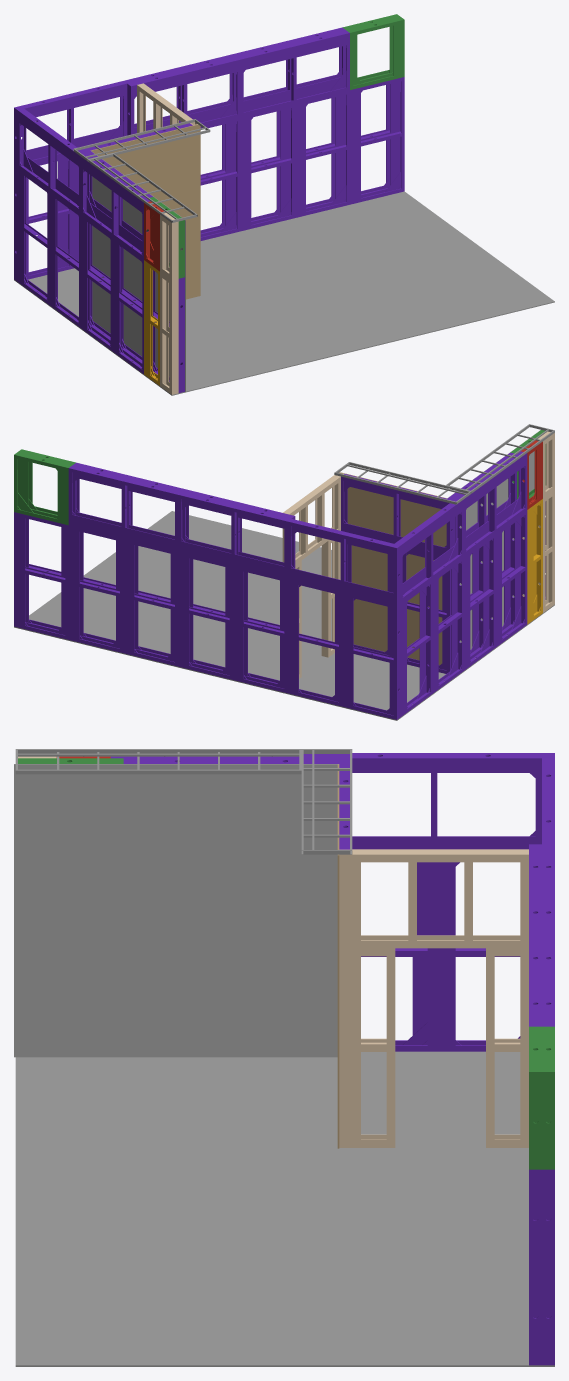
3 renders of one model, top to bottom at view 1: azimuth 30°, elevation 25°; view 2: azimuth 150°, elevation 25°; view 3: azimuth 270°, elevation 25°, orthographic. The views are drawn at different scales.
Parts seen in each view (by area): view 1: Пол 16 мм, Body18 (×14), Body17 (×9), DSP 16mm (×2), MDF 6mm (×2), Body23 (×2), Торец 2, Body15, Body20; view 2: Body18 (×24), Пол 16 мм, Body17 (×20), DSP 16mm (×2), Body22 (×12), Body15 (×11), MDF 6mm (×2), Body23, Body19, end A, Body13, 40x20x2 1 (+5 smaller); view 3: Пол 16 мм, MDF 6mm (×2), Body16 (×4), Body17 (×2), Body15 (×6), Body18 (×2), upright 2-1 (×2), upright 2-2 (×2), Panel 4 (×2), Body23 (×2), Body12 (×2), 40x20x2 2 (+6 smaller).
Boxes of the visible parts, x1,y1,x2,y2 form: Пол 16 мм: [14, 191, 554, 395]; Body18 (×14): [17, 77, 400, 352]; Body17 (×9): [21, 33, 360, 261]; DSP 16mm (×2): [91, 124, 200, 299]; MDF 6mm (×2): [91, 151, 185, 391]; Body23 (×2): [144, 107, 295, 375]; Торец 2: [172, 279, 177, 394]; Body15: [179, 277, 184, 392]; Body20: [393, 23, 404, 75]; Body18 (×24): [14, 454, 525, 713]; Пол 16 мм: [14, 511, 554, 720]; Body17 (×20): [61, 466, 520, 707]; DSP 16mm (×2): [339, 472, 446, 665]; Body22 (×12): [65, 468, 527, 716]; Body15 (×11): [69, 463, 524, 719]; MDF 6mm (×2): [447, 430, 540, 649]; Body23: [527, 509, 533, 620]; Body19: [57, 469, 68, 521]; end A: [322, 541, 327, 657]; Body13: [536, 505, 540, 611]; 40x20x2 1: [334, 472, 456, 504]; Пол 16 мм: [15, 1051, 554, 1366]; MDF 6mm (×2): [14, 764, 338, 1057]; Body16 (×4): [123, 753, 553, 1365]; Body17 (×2): [352, 836, 535, 1045]; Body15 (×6): [340, 753, 553, 1026]; Body18 (×2): [352, 753, 535, 1035]; upright 2-1 (×2): [386, 956, 528, 1139]; upright 2-2 (×2): [352, 956, 494, 1139]; Panel 4 (×2): [340, 854, 350, 1147]; Body23 (×2): [333, 758, 535, 1045]; Body12 (×2): [530, 1071, 553, 1169]; 40x20x2 2: [15, 769, 301, 774].
Size of the model in its own units: 7 by 3.06 by 5.02.
